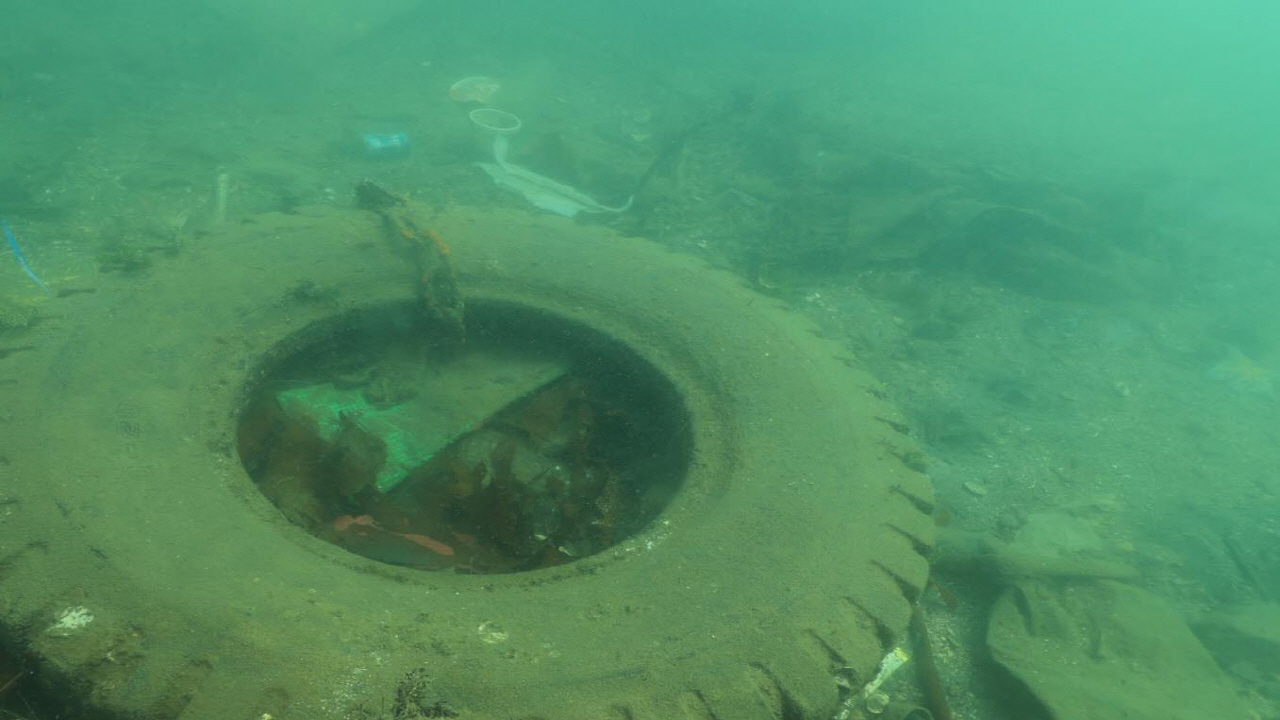tire: (0, 206, 937, 720)
